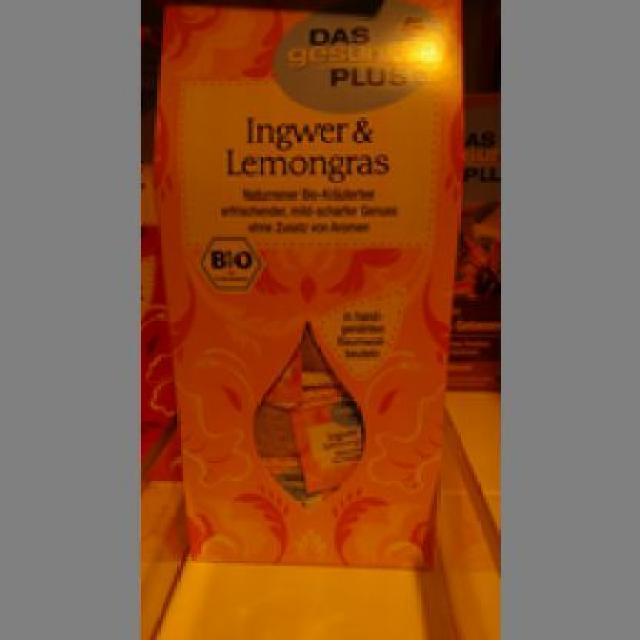Tea: (146, 0, 463, 569)
